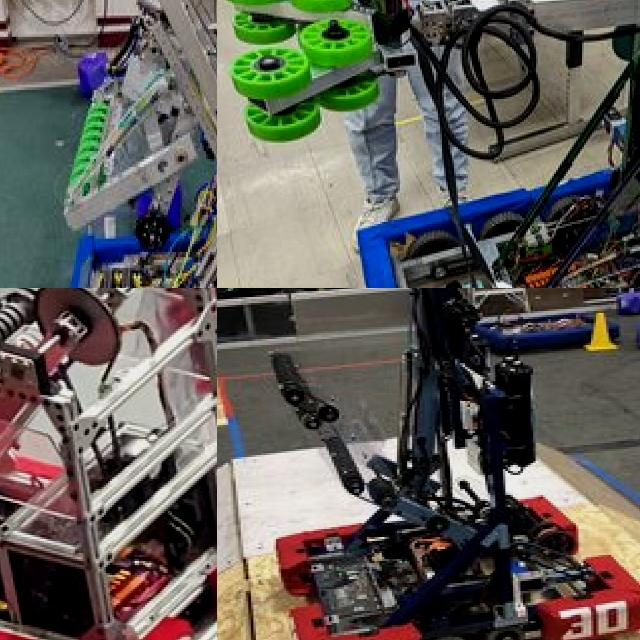FRC-Robots: (238, 288, 640, 640), (217, 0, 640, 288), (0, 288, 217, 640), (18, 0, 217, 288)
